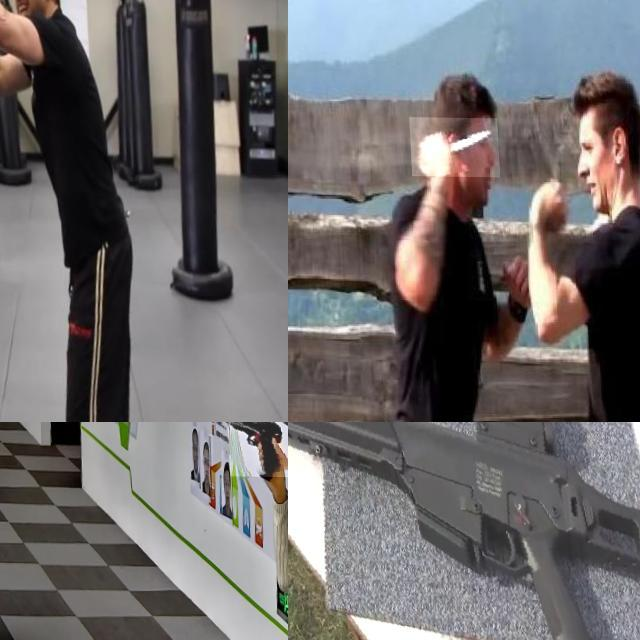-: (408, 116, 498, 176), (0, 0, 39, 35)
gun-knife-thesis - v11 Yolov5 augmented: (288, 422, 640, 640), (222, 422, 287, 476)
